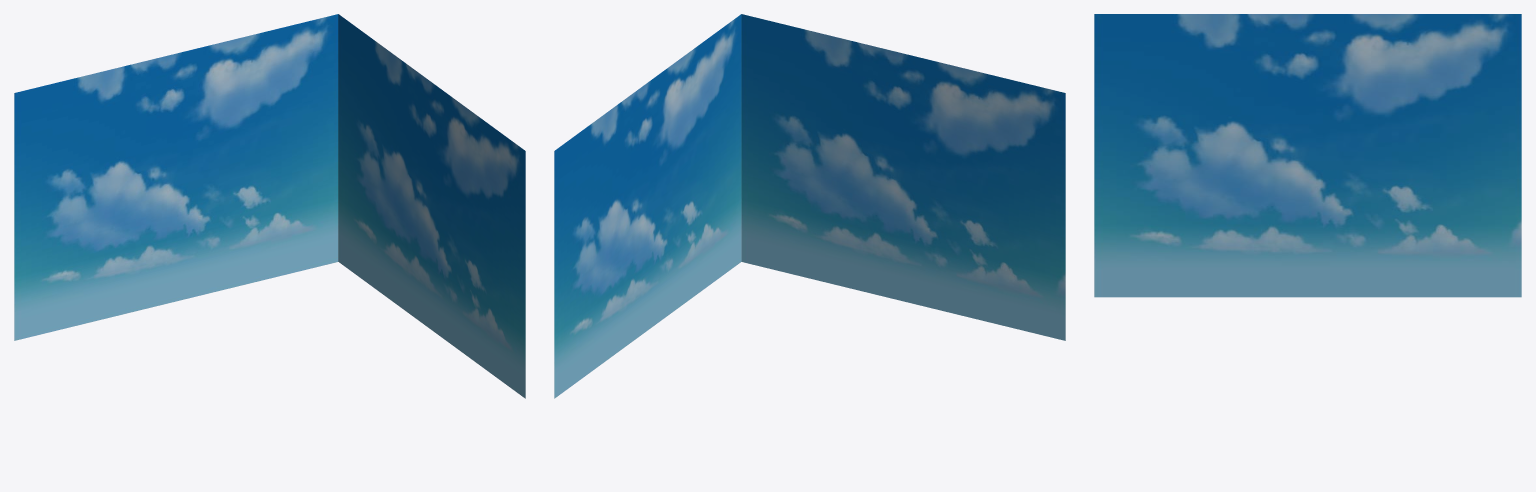
3 renders of one model, left to right at view 1: azimuth 30°, elevation 25°; view 2: azimuth 150°, elevation 25°; view 3: azimuth 270°, elevation 25°, orthographic. The views are drawn at different scales.
Parts seen in each view (by area): view 1: skyBox01; view 2: skyBox01; view 3: skyBox01.
Boxes of the visible parts, box(x1,y1,x2,y2) form: skyBox01: box(14, 14, 525, 398); skyBox01: box(554, 14, 1065, 398); skyBox01: box(1094, 14, 1521, 297).
Size of the model in its own units: 120 by 87.7 by 120.
1 material, 1 textured.
